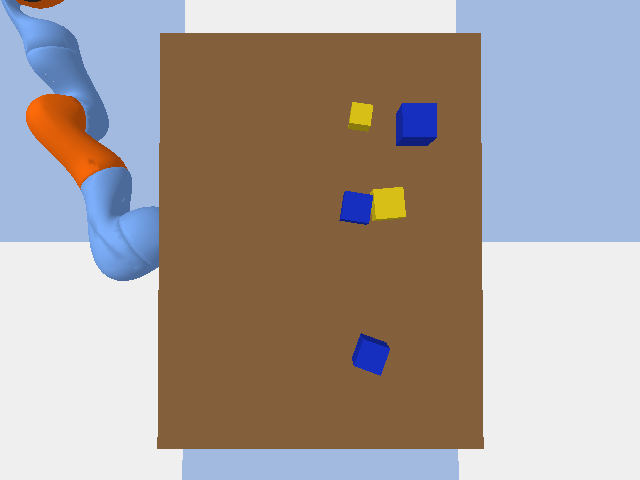blue_obj: (396, 103, 436, 145), (352, 333, 389, 375), (339, 191, 372, 224)
yellow_obj: (370, 187, 405, 220), (348, 102, 372, 131)
